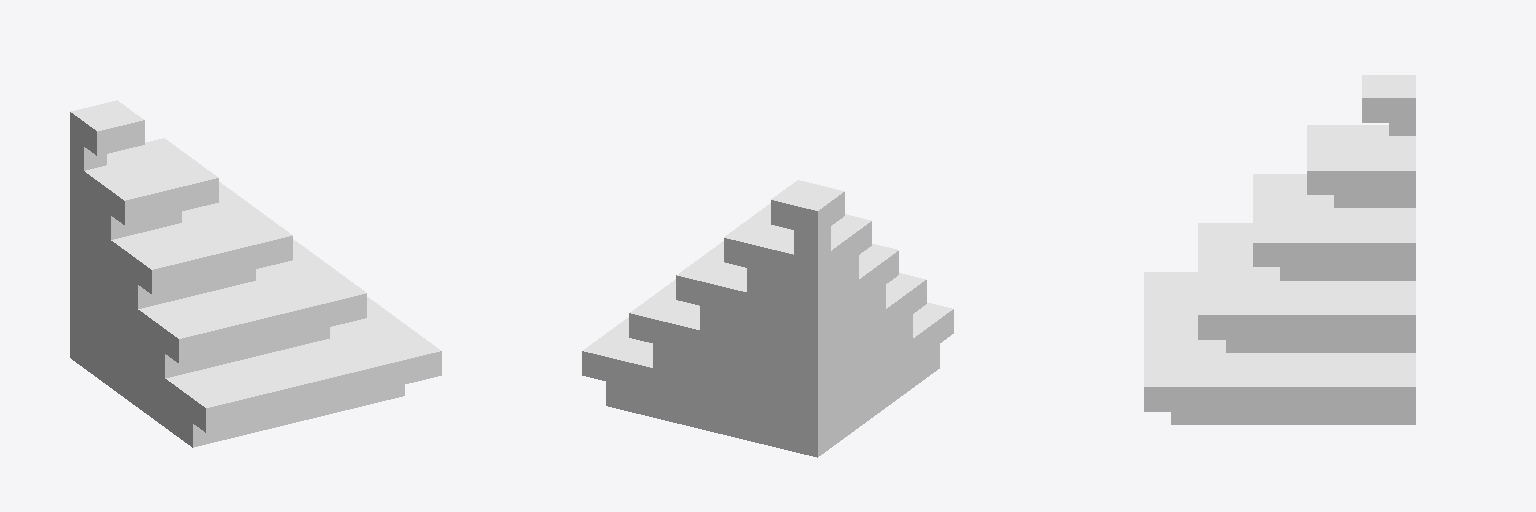
The model's file is wall_stairs_corner_out.obj.
3 renders of one model, left to right at view 1: azimuth 30°, elevation 25°; view 2: azimuth 150°, elevation 25°; view 3: azimuth 270°, elevation 25°, orthographic.
Visible parts, largest first — view 1: object 1; view 2: object 1; view 3: object 1.
Boxes of the visible parts, x1=… form: object 1: x1=70, y1=100, x2=441, y2=447; object 1: x1=582, y1=180, x2=953, y2=457; object 1: x1=1144, y1=75, x2=1415, y2=424.
Size of the model in its own units: 1 by 1 by 1.